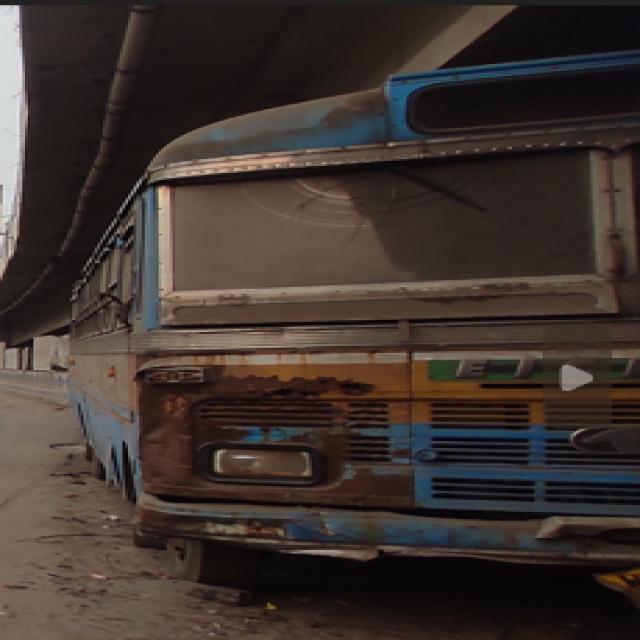bus: (64, 48, 640, 621)
